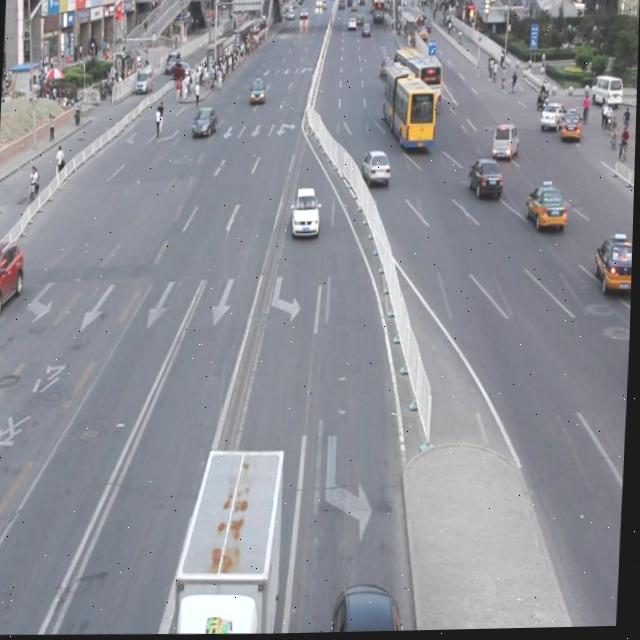bus: (176, 444, 289, 636)
car: (334, 581, 407, 634), (594, 237, 634, 297), (525, 185, 568, 232), (0, 238, 26, 315), (468, 159, 504, 202), (291, 187, 321, 237), (362, 151, 391, 187)
